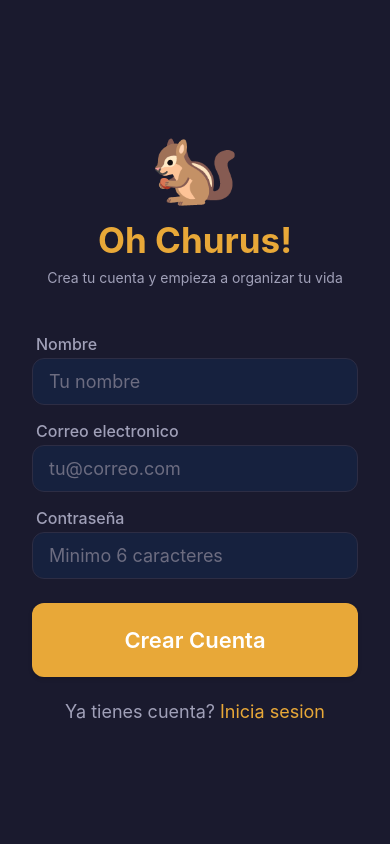
Scenario: RegisterScreen › shows validation errors when fields are empty
The width and height of the screenshot is (390, 844).
Click the button "Crear Cuenta" at (195, 640), box [32,602,358,676]
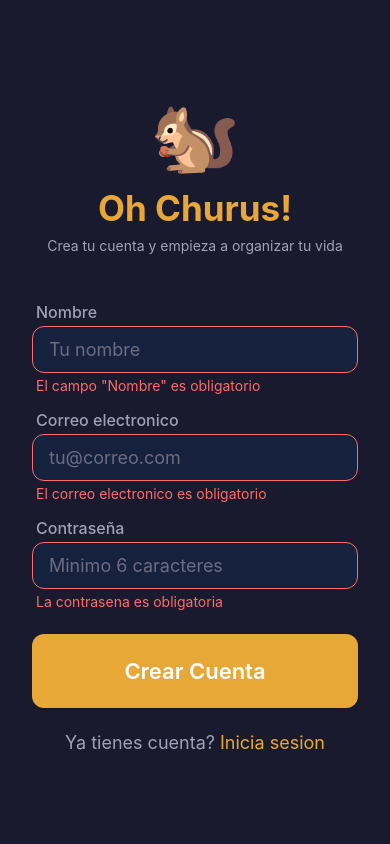
Result: the text "El campo \"Nombre\" es obligatorio" is shown at [36,377,260,394]
